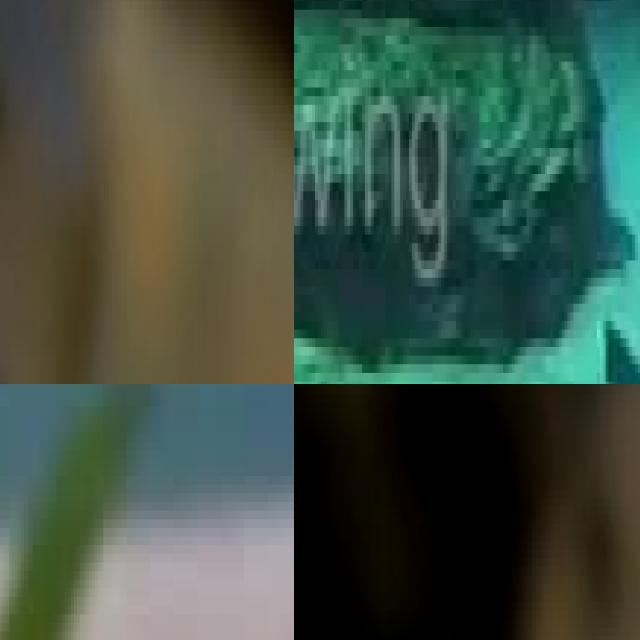fish: (0, 0, 294, 384), (503, 384, 640, 640)
